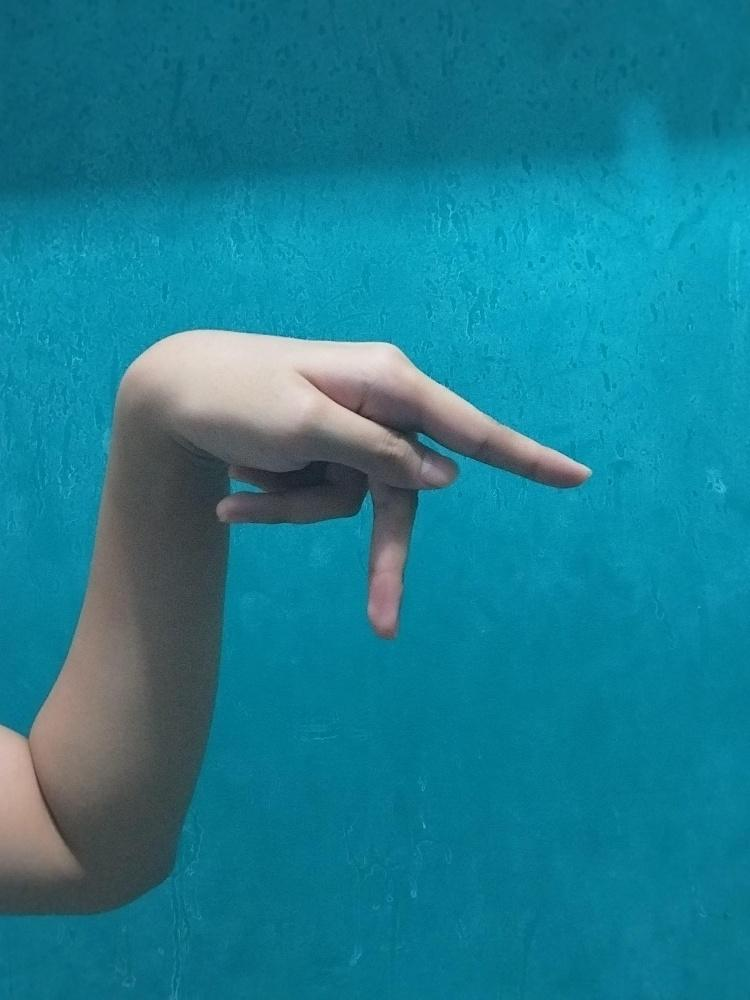p: (95, 325, 592, 643)
